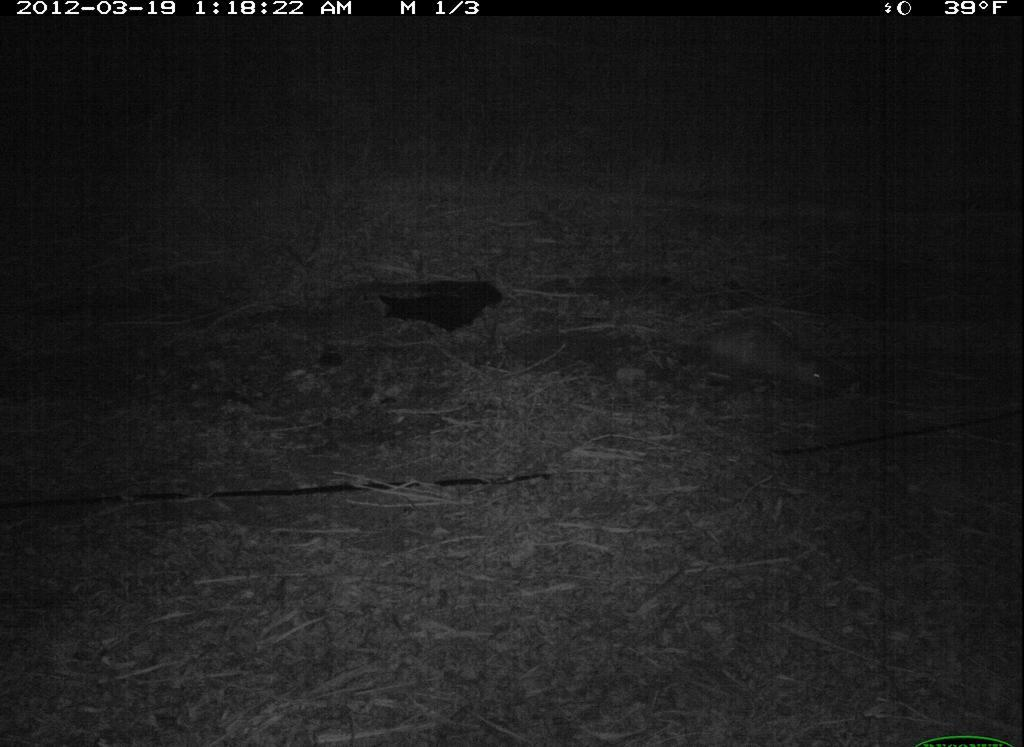opossum: (667, 303, 833, 404)
